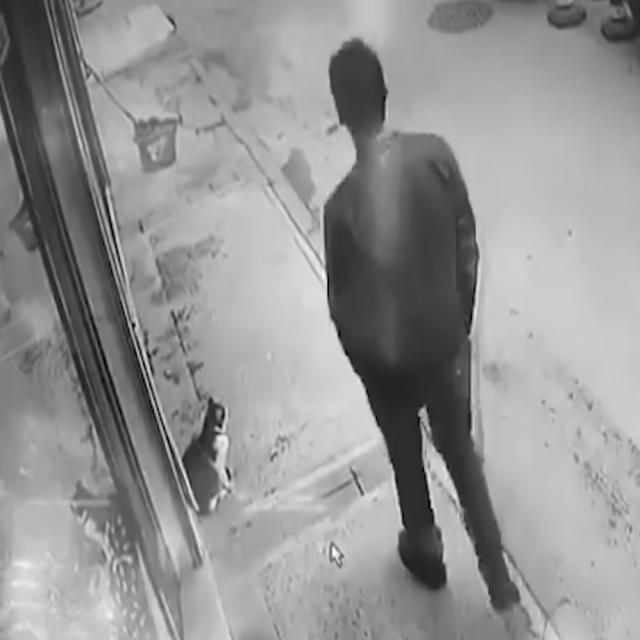Invader: (321, 35, 523, 614)
